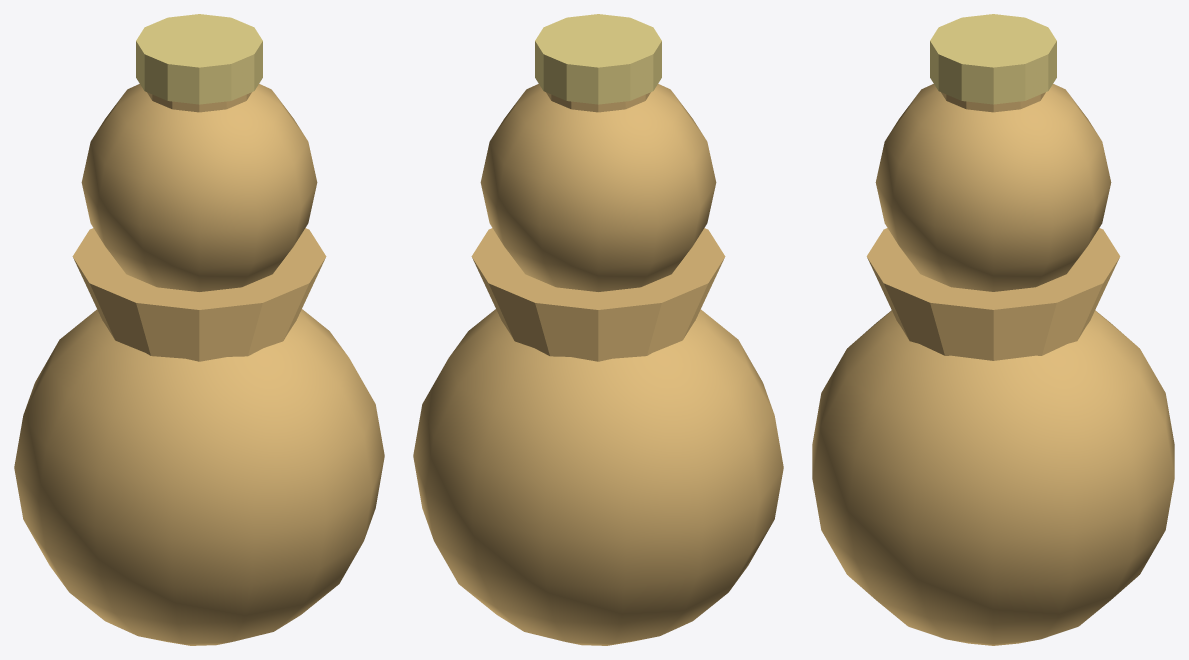
Rendered from gourd.glb.
3 renders of one model, left to right at view 1: azimuth 30°, elevation 25°; view 2: azimuth 150°, elevation 25°; view 3: azimuth 270°, elevation 25°, orthographic.
Visible parts, largest first — view 1: gourd; view 2: gourd; view 3: gourd.
Part boxes in pixels (box(x1,y1,x2,y2)): gourd: box(14, 14, 384, 645); gourd: box(413, 14, 783, 645); gourd: box(812, 14, 1174, 645).
Size of the model in its own units: 0.082 by 0.1435 by 0.0799.
